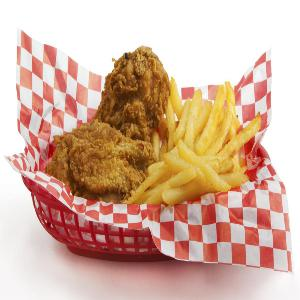fries: (169, 84, 258, 209)
